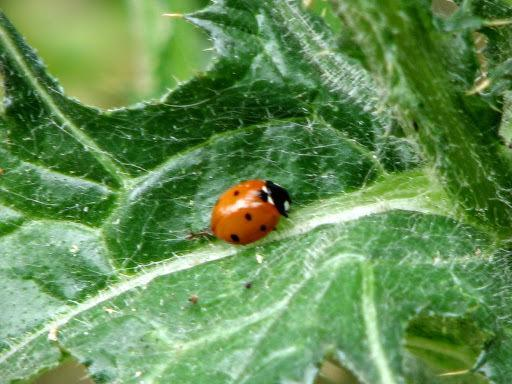ladybug: (211, 178, 295, 247)
